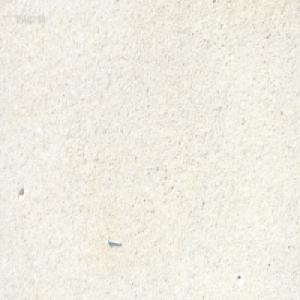Nail: (107, 237, 122, 246)
